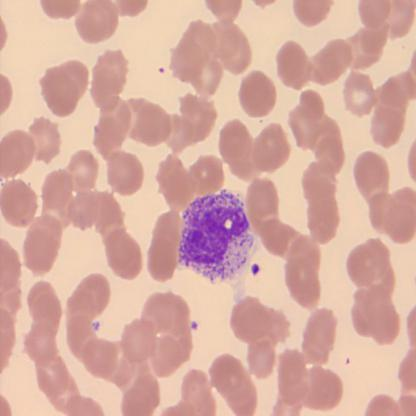Metamyelocyte: (175, 184, 257, 287)
